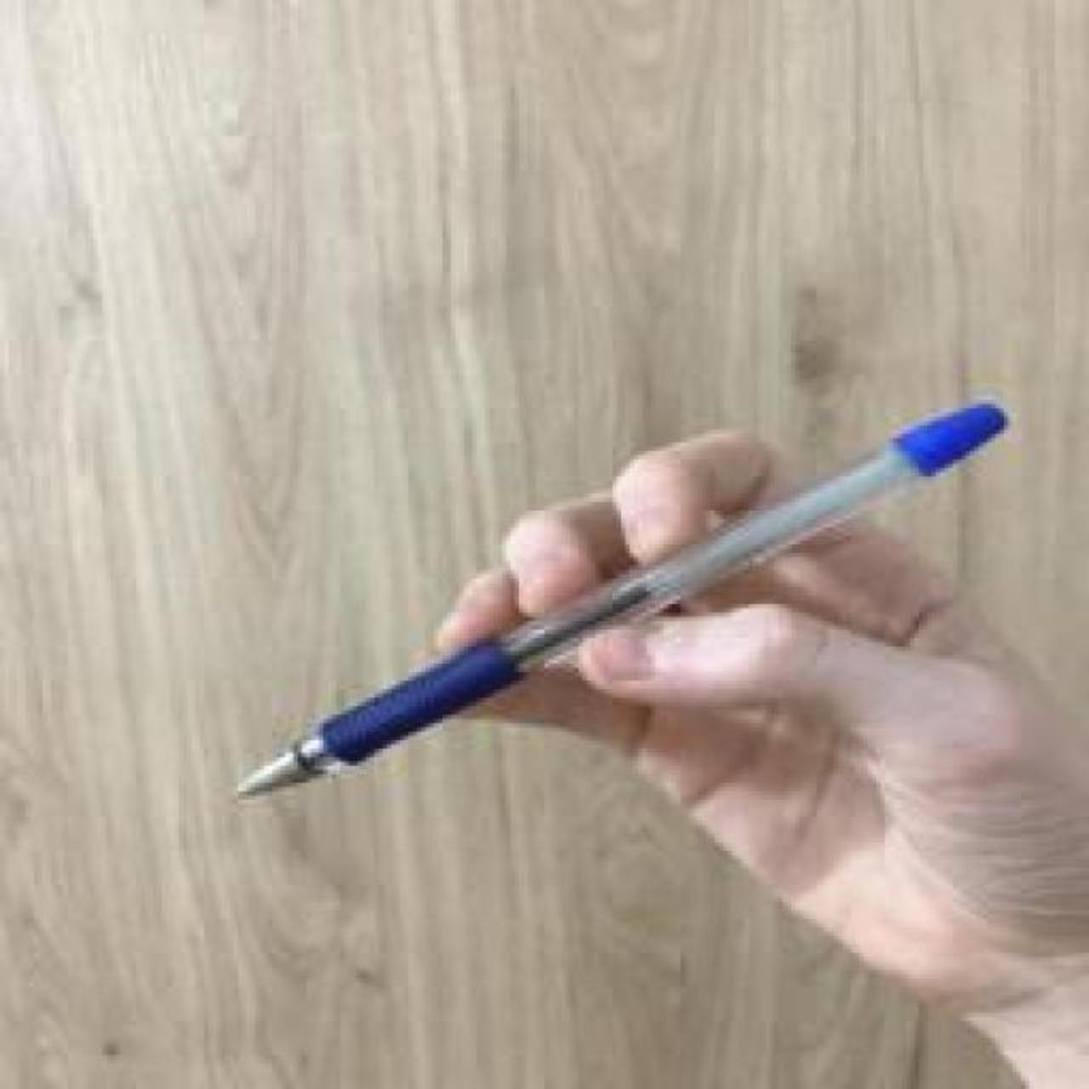pen: (226, 396, 1014, 805)
